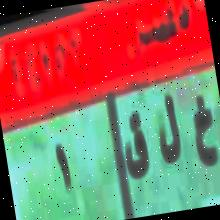1: (52, 136, 76, 200)
khaa: (185, 87, 220, 179)
laam: (152, 92, 186, 173)
qaaf: (114, 106, 154, 180)
